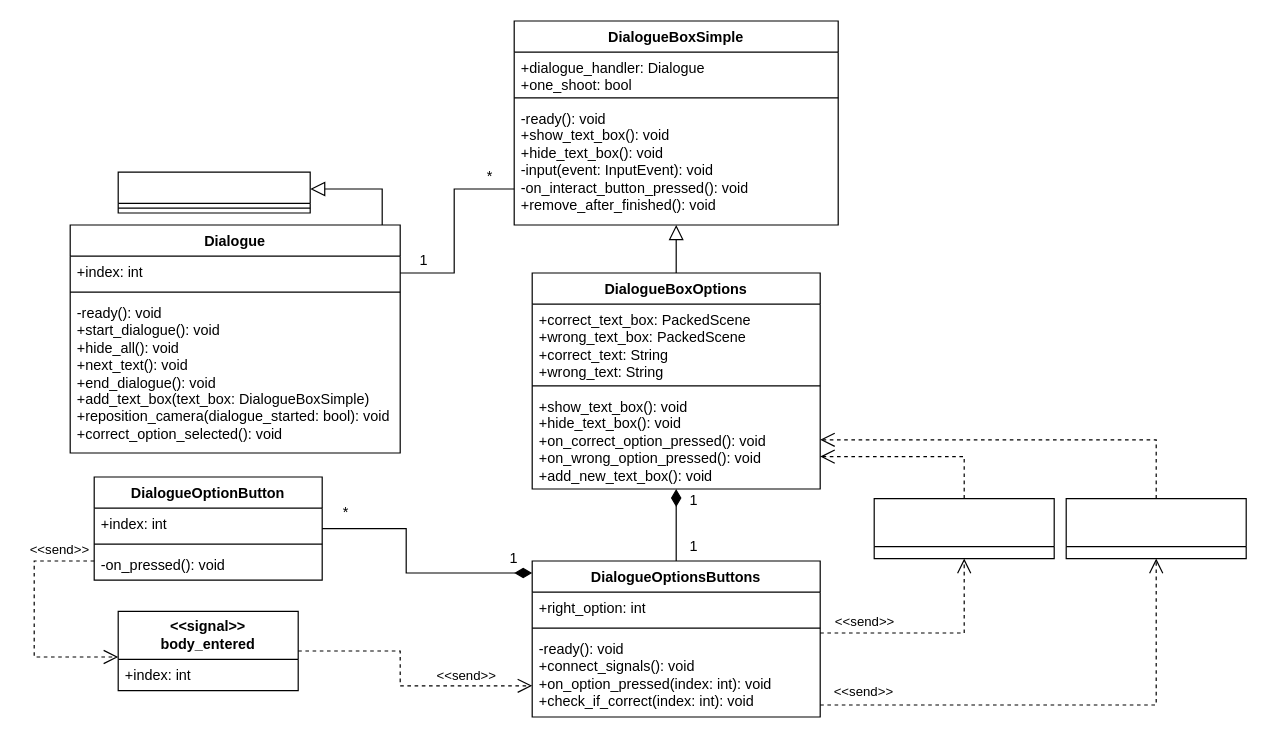
The diagram is 1267 pixels wide and 742 high, and some of its shapes have lost their labels. The centre of each missing label's shape, as x and y in pixels:
"<<signal>> correct_option_pressed" belongs at [1155,528].
"<<signal>> wrong_option_pressed" belongs at [963,528].
"Control" belongs at [213,192].
